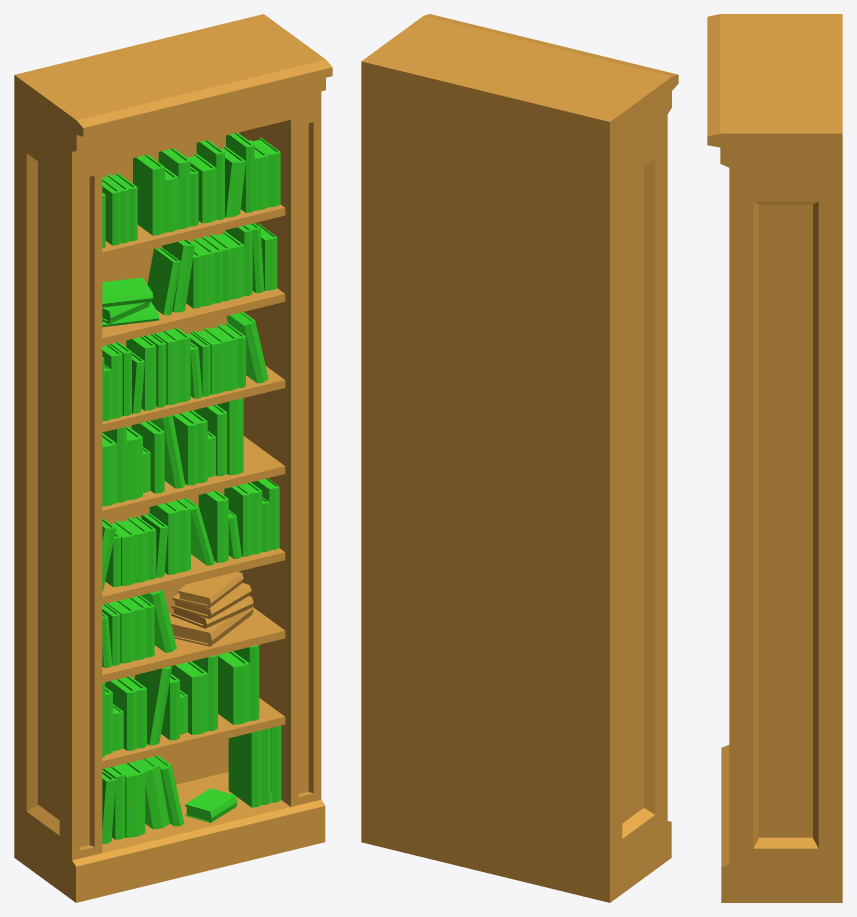
The model's file is Sm_Bookcase_Modular_Filled_1m_A.fbx.
3 renders of one model, left to right at view 1: azimuth 30°, elevation 25°; view 2: azimuth 150°, elevation 25°; view 3: azimuth 270°, elevation 25°, orthographic.
Parts seen in each view (by area): view 1: bookcase-modular-filled-1m-a; view 2: bookcase-modular-filled-1m-a; view 3: bookcase-modular-filled-1m-a.
Part boxes in pixels (left/top/right/bottom): bookcase-modular-filled-1m-a: left=14, top=14, right=332, bottom=902; bookcase-modular-filled-1m-a: left=361, top=14, right=678, bottom=902; bookcase-modular-filled-1m-a: left=707, top=14, right=842, bottom=902.
Size of the model in its own units: 1 by 3 by 0.4778.
